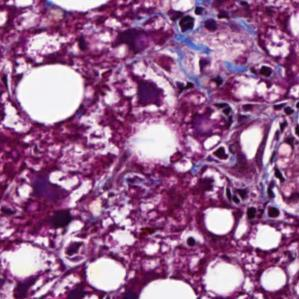inflammation: (219, 184, 292, 224), (166, 4, 242, 38), (270, 92, 299, 180), (126, 67, 172, 115), (212, 97, 238, 173), (110, 24, 151, 56), (247, 51, 275, 94), (200, 55, 228, 93), (59, 278, 104, 299), (49, 204, 74, 233), (174, 75, 202, 96), (180, 232, 208, 253)
